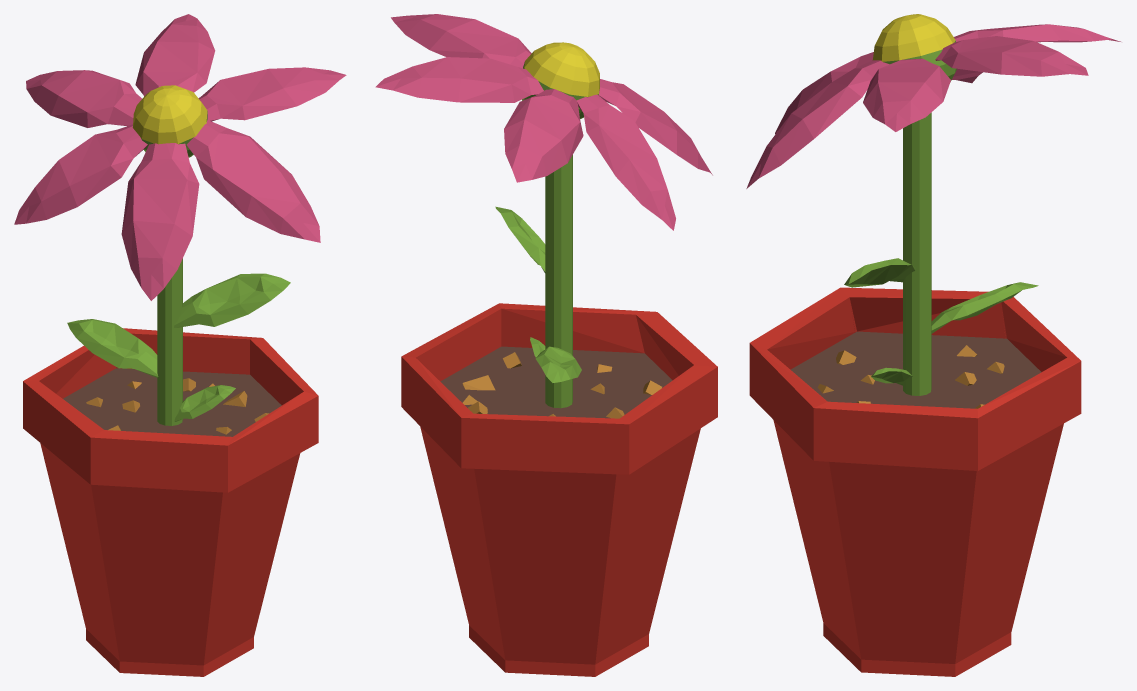
3 renders of one model, left to right at view 1: azimuth 30°, elevation 25°; view 2: azimuth 150°, elevation 25°; view 3: azimuth 270°, elevation 25°, orthographic. The views are drawn at different scales.
Parts seen in each view (by area): view 1: node_MeshObject1923962624-PolyPaper8; view 2: node_MeshObject1923962624-PolyPaper8; view 3: node_MeshObject1923962624-PolyPaper8.
Part boxes in pixels (left/top/right/bottom): node_MeshObject1923962624-PolyPaper8: left=14, top=14, right=346, bottom=676; node_MeshObject1923962624-PolyPaper8: left=375, top=14, right=717, bottom=676; node_MeshObject1923962624-PolyPaper8: left=746, top=14, right=1120, bottom=676.
Bounding box in the file's own units: 0.2651 × 0.4733 × 0.2585.
